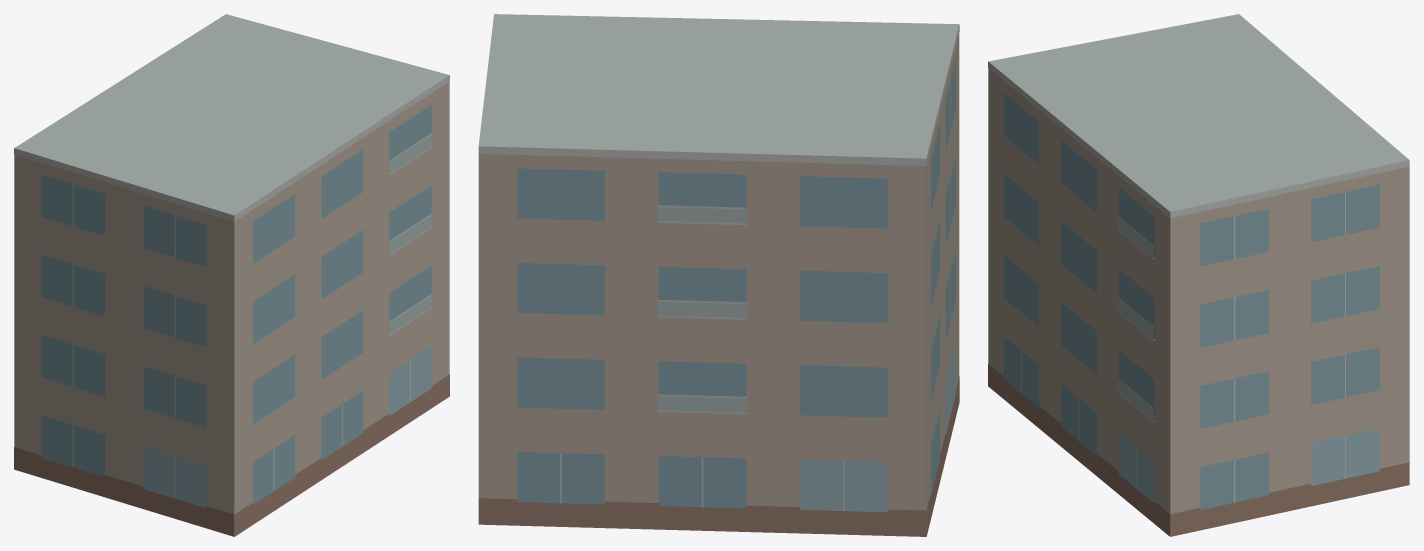
File: survey-upis-32763976.glb
The picture shows the model from 3 angles, left to right: view 1: azimuth 30°, elevation 25°; view 2: azimuth 150°, elevation 25°; view 3: azimuth 270°, elevation 25°; orthographic projection. The views are drawn at different scales.
Visible parts, largest first — view 1: survey-upis-32763976.tmp; view 2: survey-upis-32763976.tmp; view 3: survey-upis-32763976.tmp.
Boxes of the visible parts, <box> form: survey-upis-32763976.tmp: <box>14,14,449,536</box>; survey-upis-32763976.tmp: <box>478,14,959,536</box>; survey-upis-32763976.tmp: <box>988,14,1409,536</box>.
Size of the model in its own units: 16.15 by 12.35 by 14.53.
